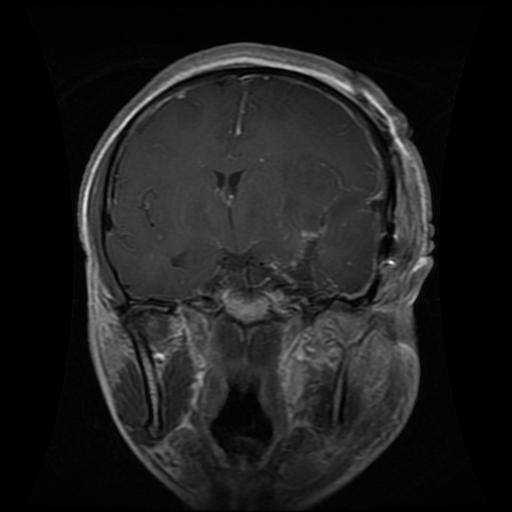Gliomia_tumour: (278, 151, 376, 292)
